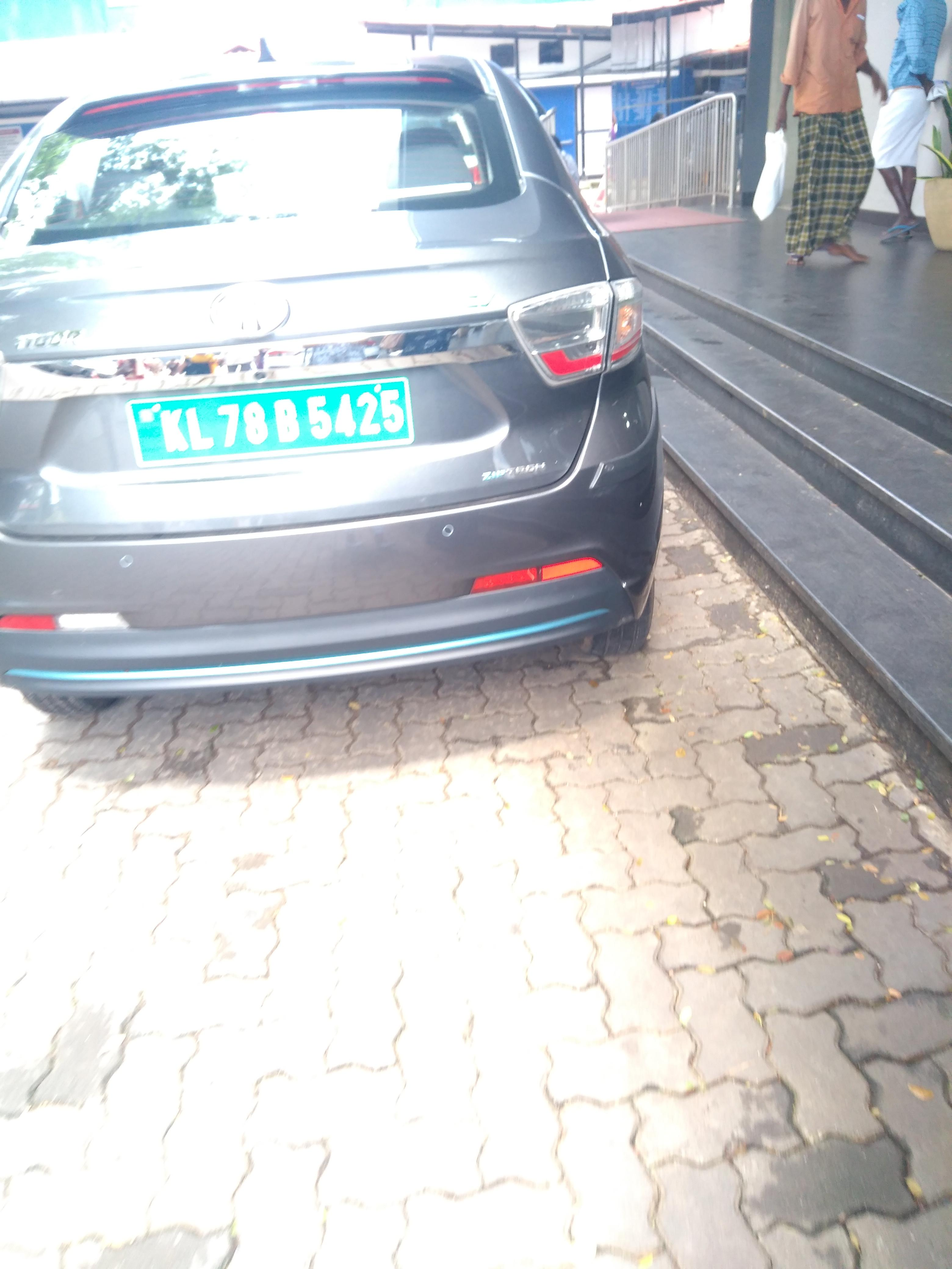green license plate: (129, 373, 420, 460)
